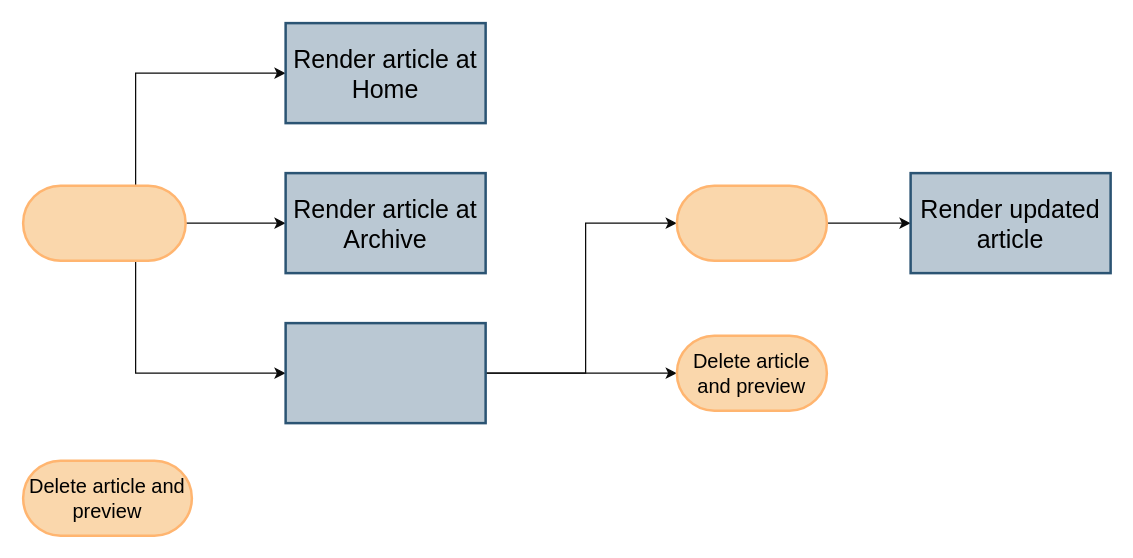
The diagram is 1133 pixels wide and 558 high, and some of its shapes have lost their labels. Here are the shapes that lost their labels. From the top down, the box of each, then its label:
(21, 184, 186, 261): Submit
(675, 184, 828, 261): Edit article
(284, 321, 486, 424): Render preview at Admin
